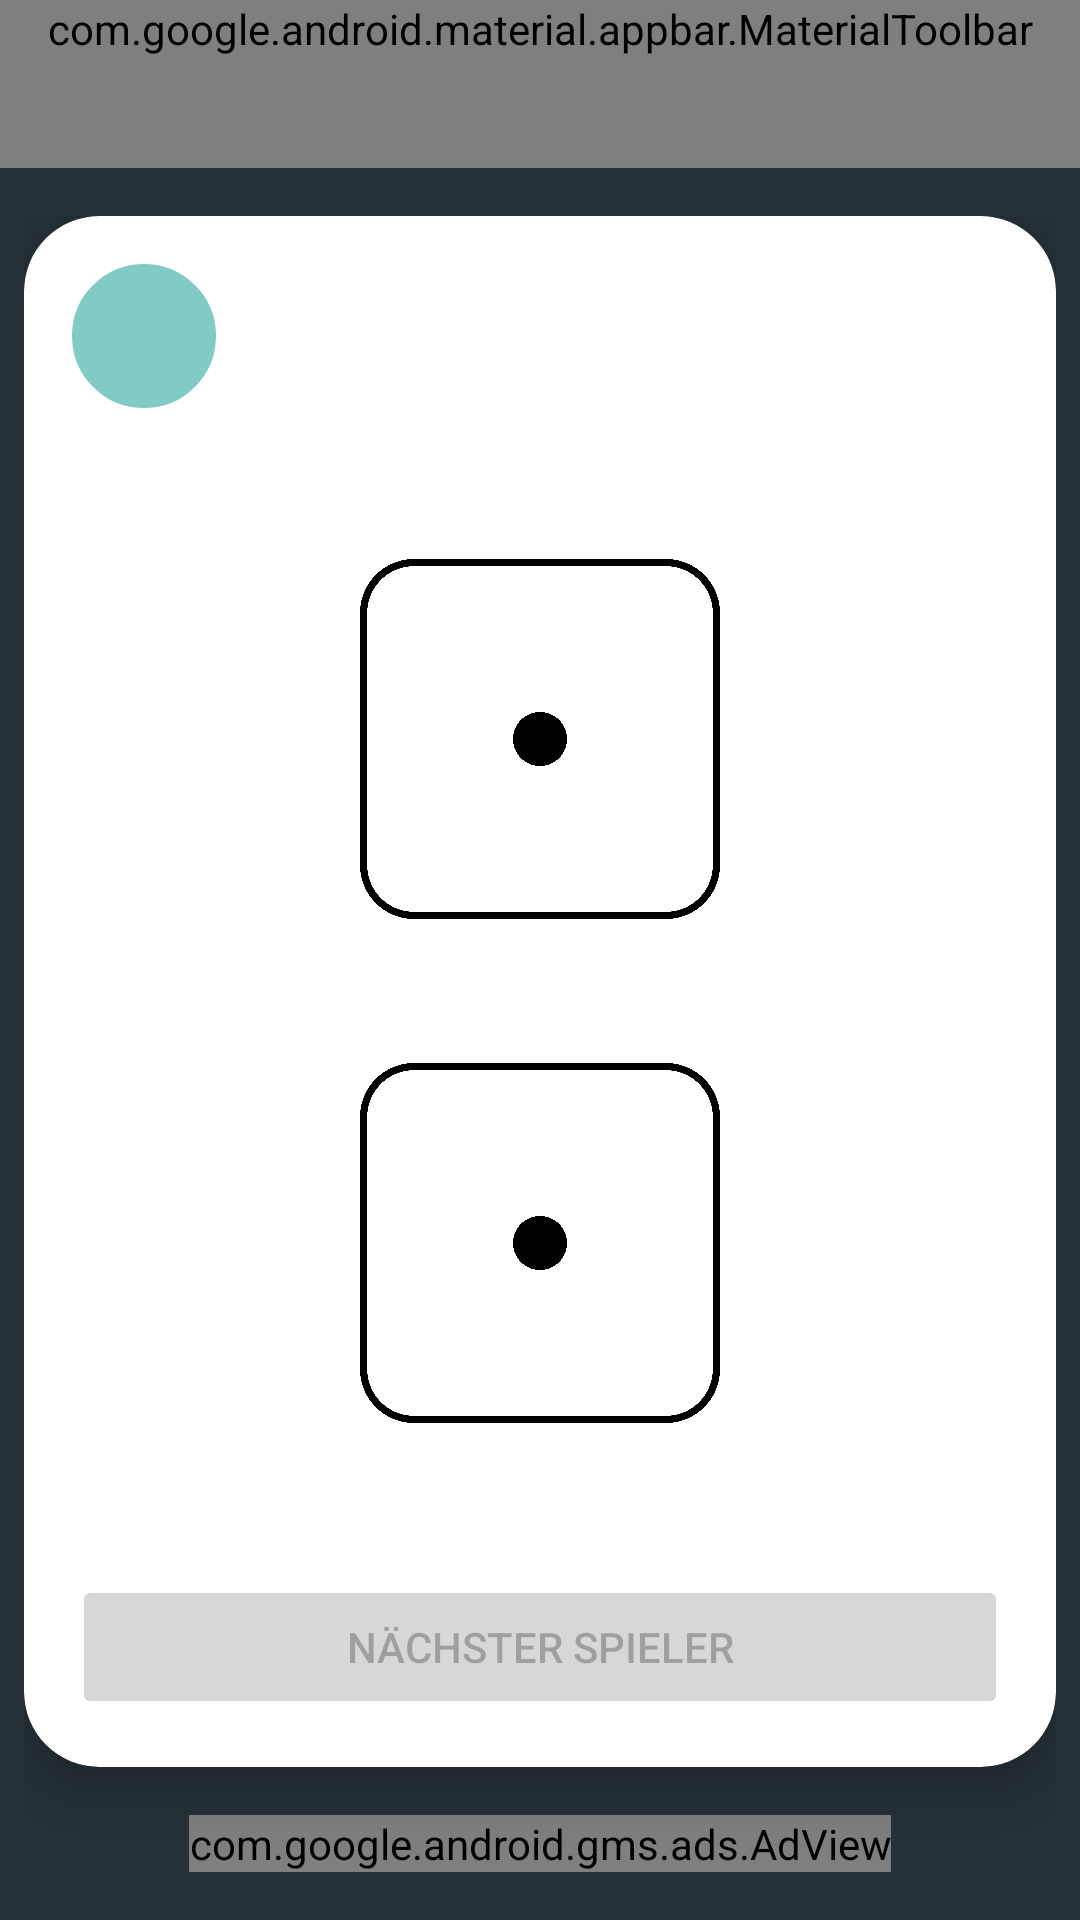

Screen size 1080px x 1920px. Icon name, then its center in pixels as [x,y]:
Würfel: [540,739], [540,1243]
